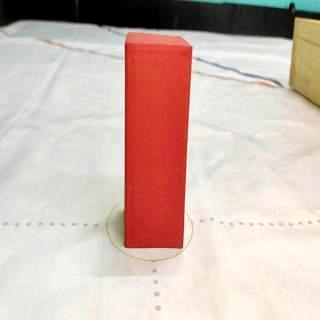redbox: (125, 30, 191, 250)
